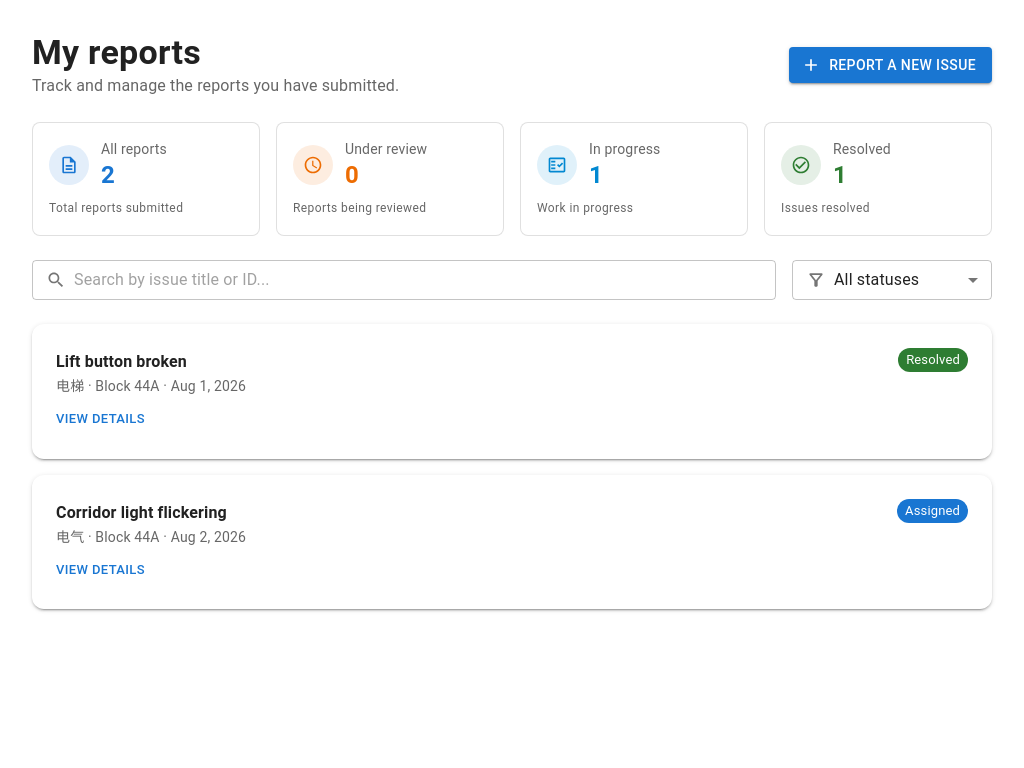
Test: MyReportsPage — translation wiring › fetches the expanded record's translation in the profile's preferred language
Click the button "View details" below "电梯".
click(100, 419)  # box [56,404,145,435]
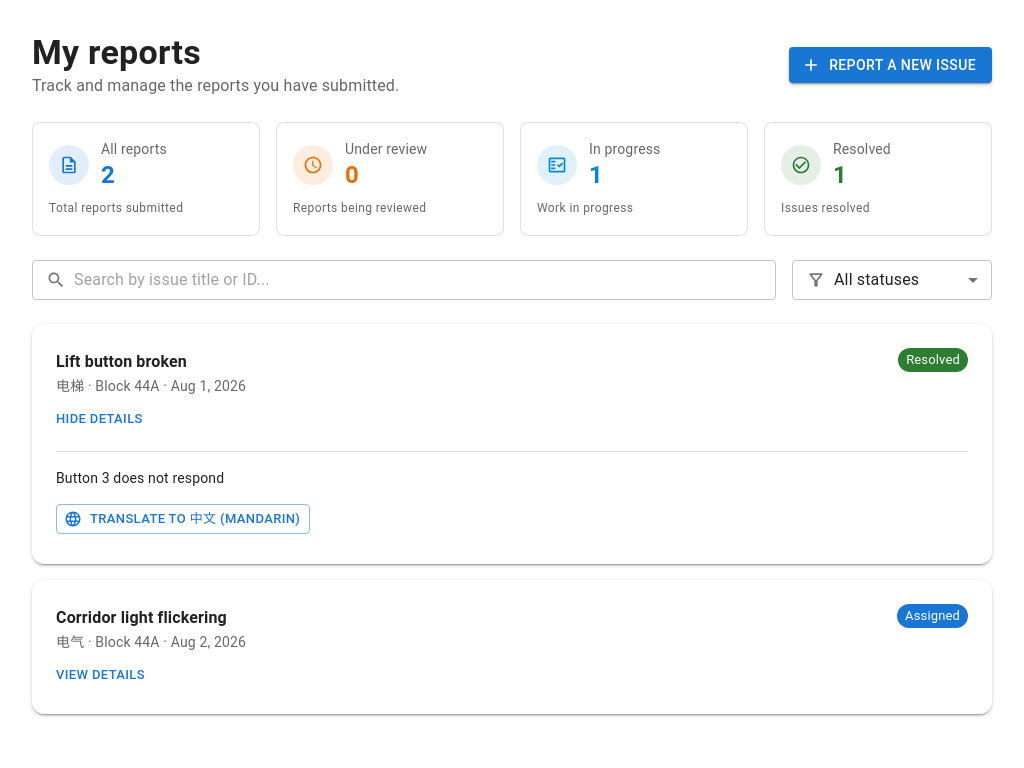
Click the button "Translate to 中文 (Mandarin)".
click(183, 519)  # box [56,504,310,534]
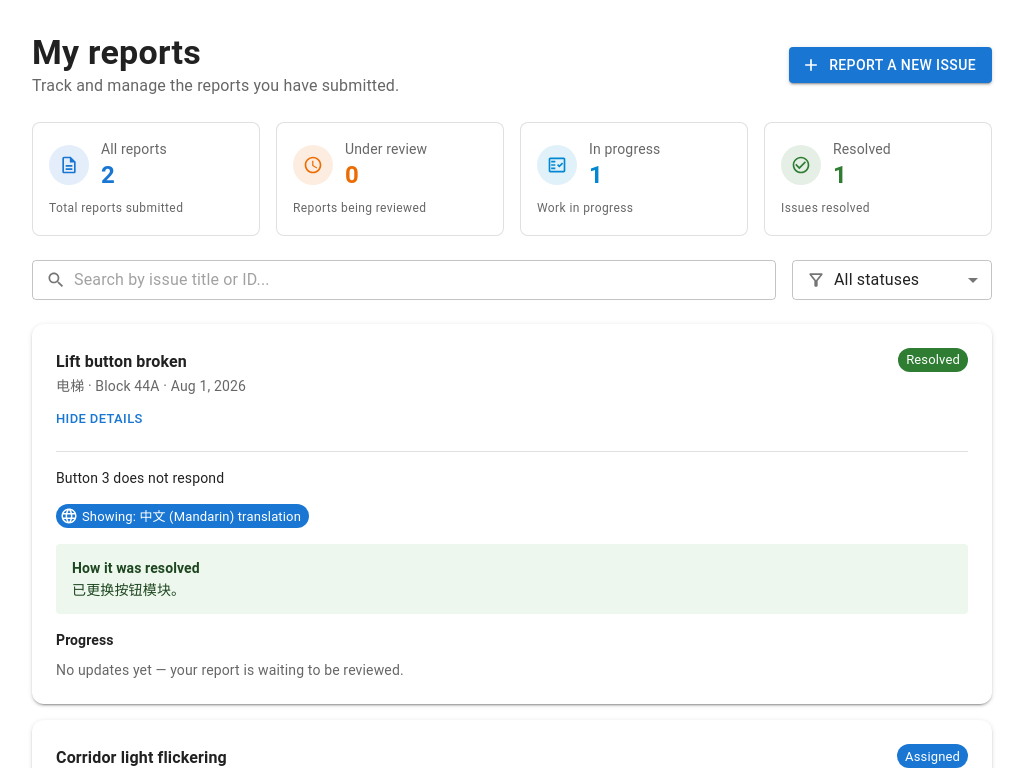
Expected: the text "已更换按钮模块。" is shown, [72,580,200,600]
